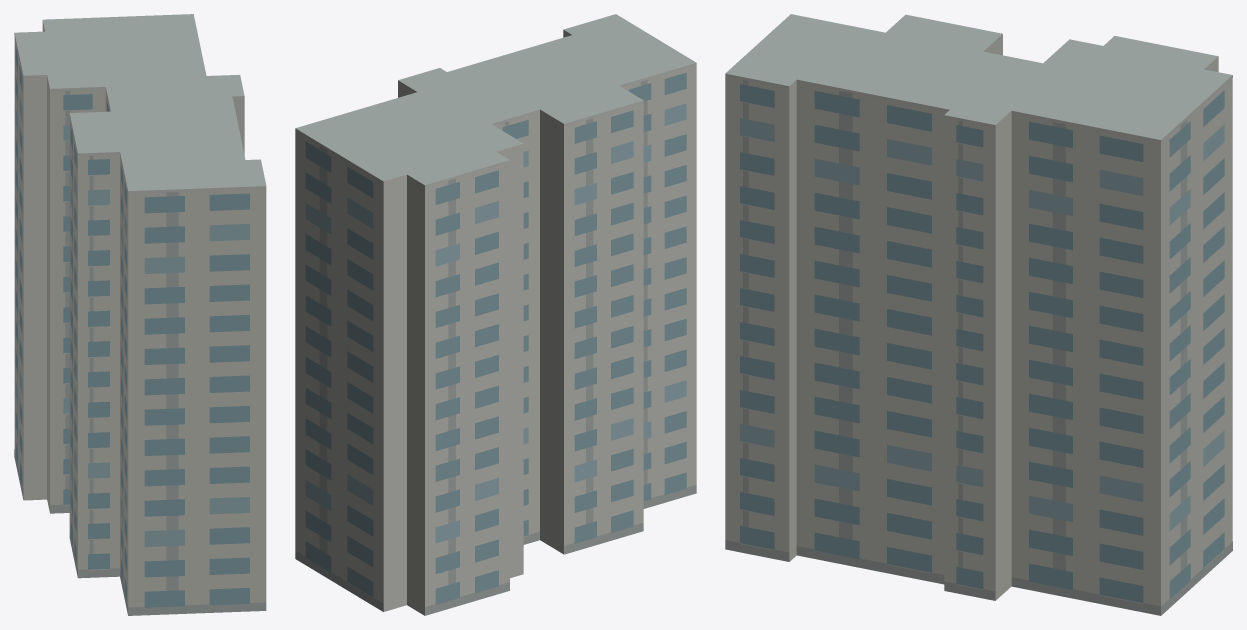
The model's file is residential-eb912efd-c18a-4682-9485-03834128489f.glb.
3 views of the same model, side by side, from view 1: azimuth 30°, elevation 25°; view 2: azimuth 150°, elevation 25°; view 3: azimuth 270°, elevation 25° (orthographic). The views are drawn at different scales.
Parts seen in each view (by area): view 1: residential-eb912efd-c18a-4682-9485-03834128489f.tmp; view 2: residential-eb912efd-c18a-4682-9485-03834128489f.tmp; view 3: residential-eb912efd-c18a-4682-9485-03834128489f.tmp.
Boxes of the visible parts, box(x1,y1,x2,y2) form: residential-eb912efd-c18a-4682-9485-03834128489f.tmp: box(14, 14, 266, 615); residential-eb912efd-c18a-4682-9485-03834128489f.tmp: box(295, 14, 696, 615); residential-eb912efd-c18a-4682-9485-03834128489f.tmp: box(725, 14, 1232, 615).
Bounding box in the file's own units: 22.75 × 40 × 38.68.
